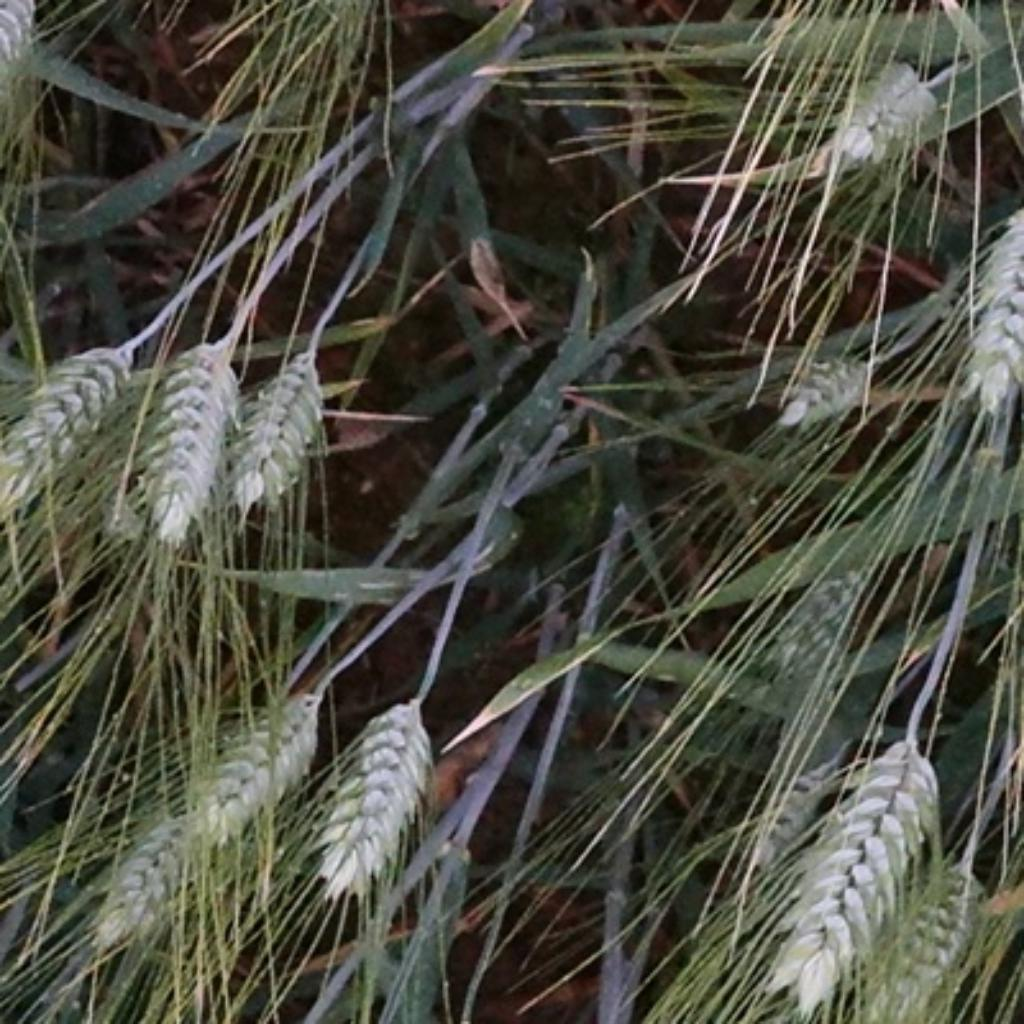0-0: (766, 737, 941, 1019), (308, 688, 446, 914), (168, 668, 325, 857), (4, 317, 145, 525), (76, 788, 243, 949), (133, 314, 238, 547), (225, 332, 337, 519), (874, 847, 990, 1023), (944, 176, 1024, 419), (753, 561, 883, 695), (810, 50, 940, 177), (760, 327, 883, 432), (742, 747, 842, 867)
